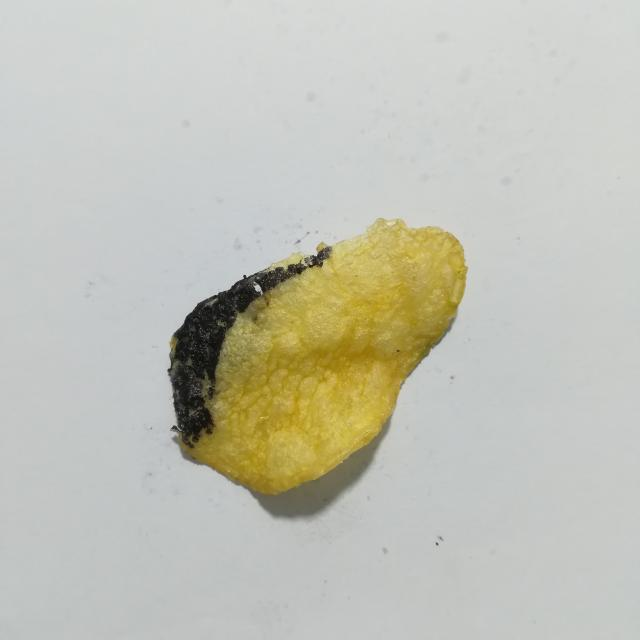chip: (168, 219, 467, 494)
damaged: (168, 246, 331, 445)
semi-damaged: (206, 268, 314, 421)
